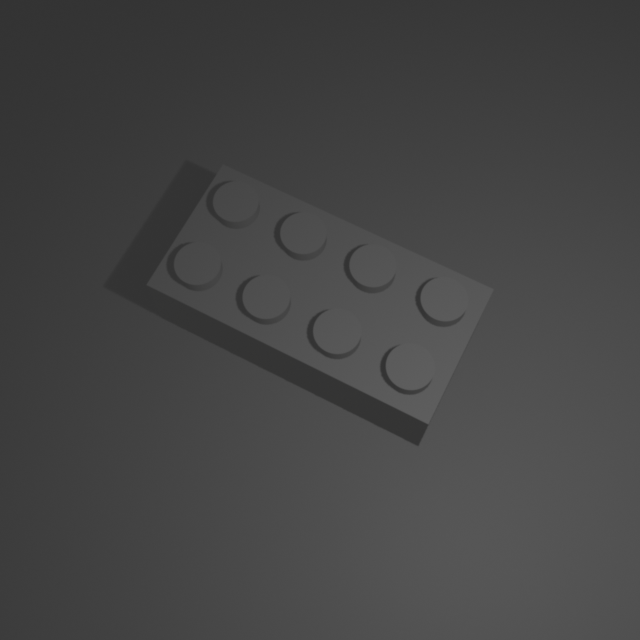lego_2x4: (143, 157, 497, 446)
